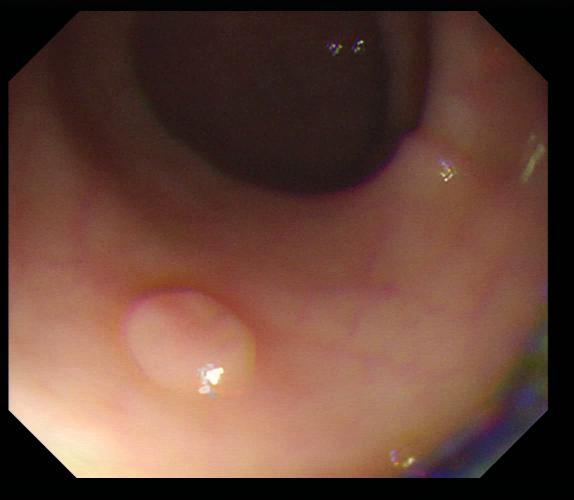polyp: (126, 287, 260, 402)
